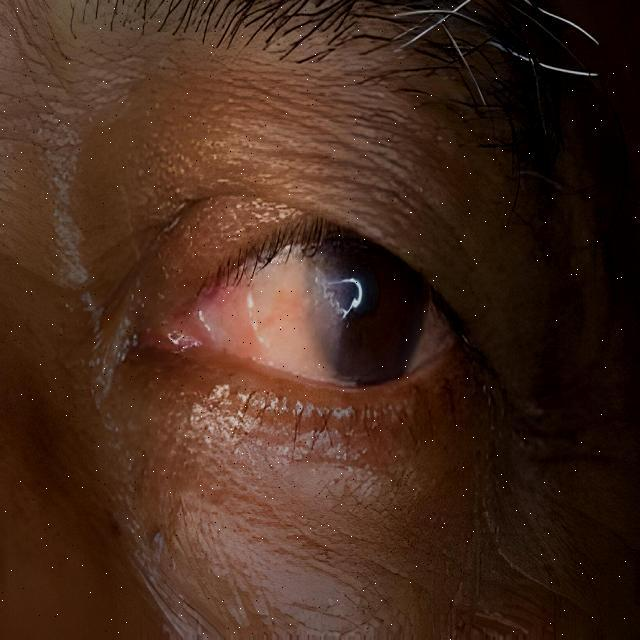Pterygium: (172, 249, 362, 376)
